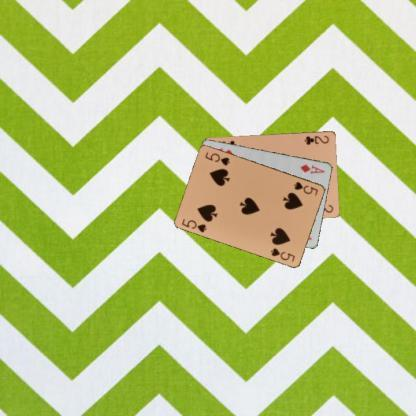2c: (302, 133, 330, 145)
5s: (291, 179, 320, 197), (179, 216, 208, 234)
Ad: (297, 161, 326, 175)
